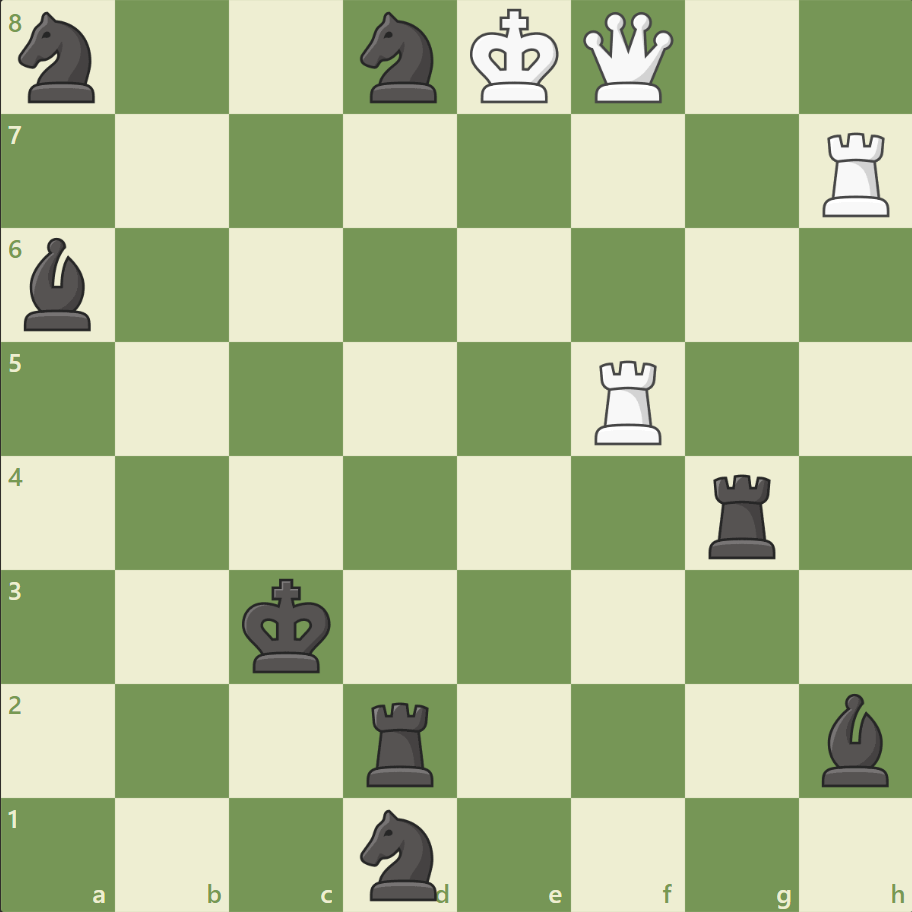K: (465, 4, 565, 112)
Q: (578, 9, 677, 108)
R: (814, 125, 897, 222), (587, 352, 670, 449)
b: (17, 233, 101, 336), (812, 687, 896, 790)
k: (238, 571, 338, 679)
n: (351, 7, 449, 110), (351, 802, 449, 904), (11, 7, 108, 110)
r: (700, 466, 783, 563), (360, 693, 442, 790)
